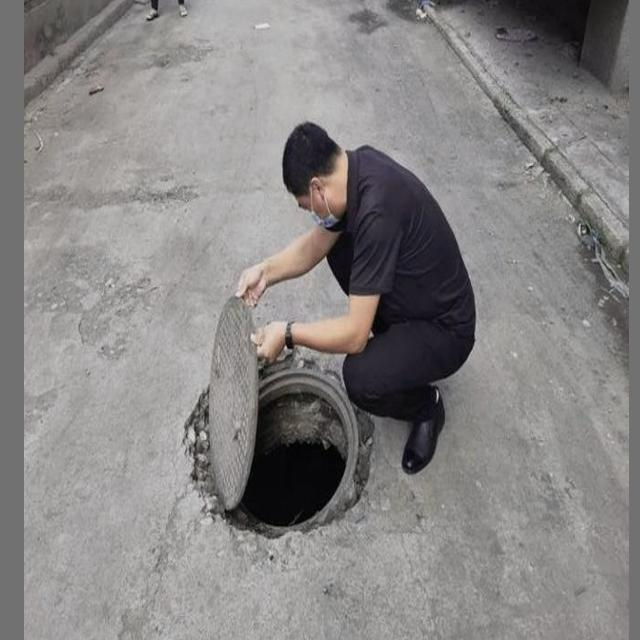circle: (168, 314, 409, 562)
